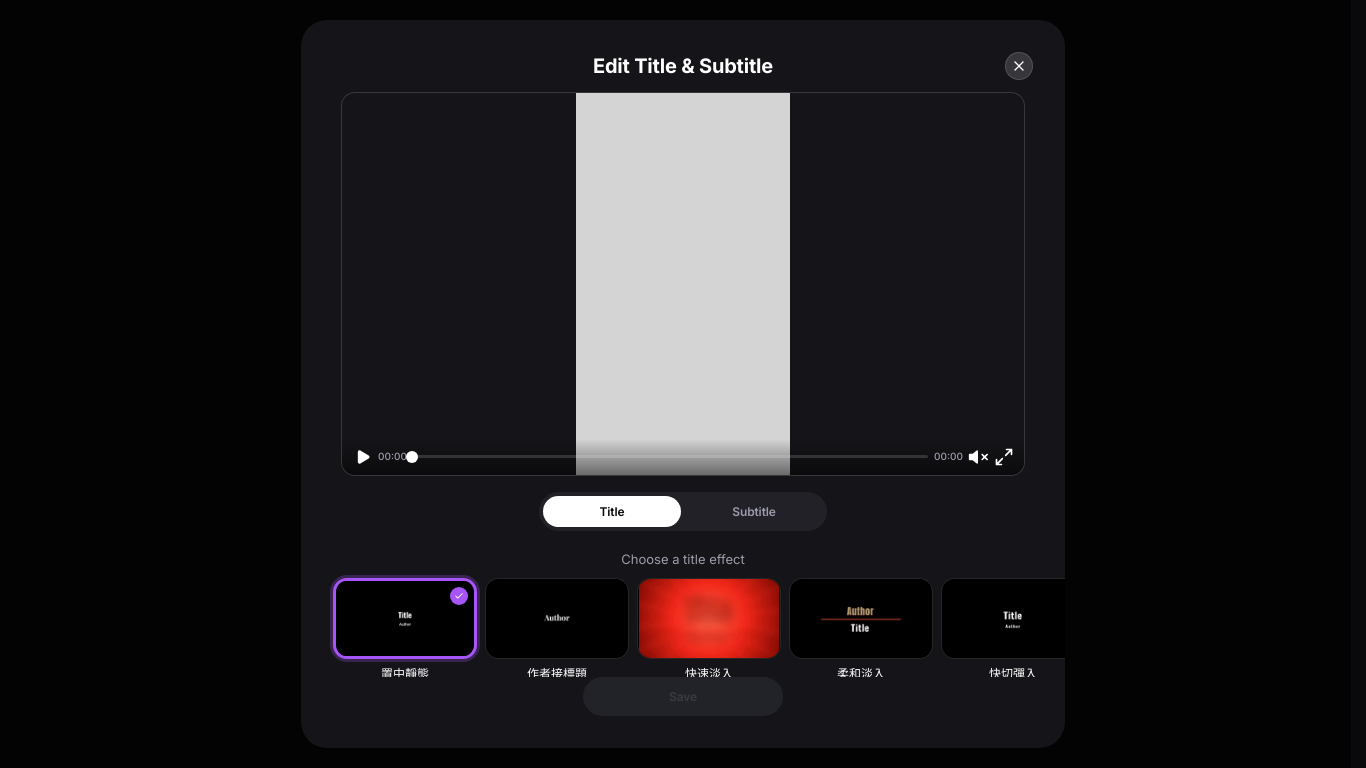
MV effects draft boundaries › keeps a usable but disabled subtitle switch operable without allowing selection
Click the tab "Subtitle" at coordinates (754, 512), box x1=685 y1=496 x2=823 y2=527
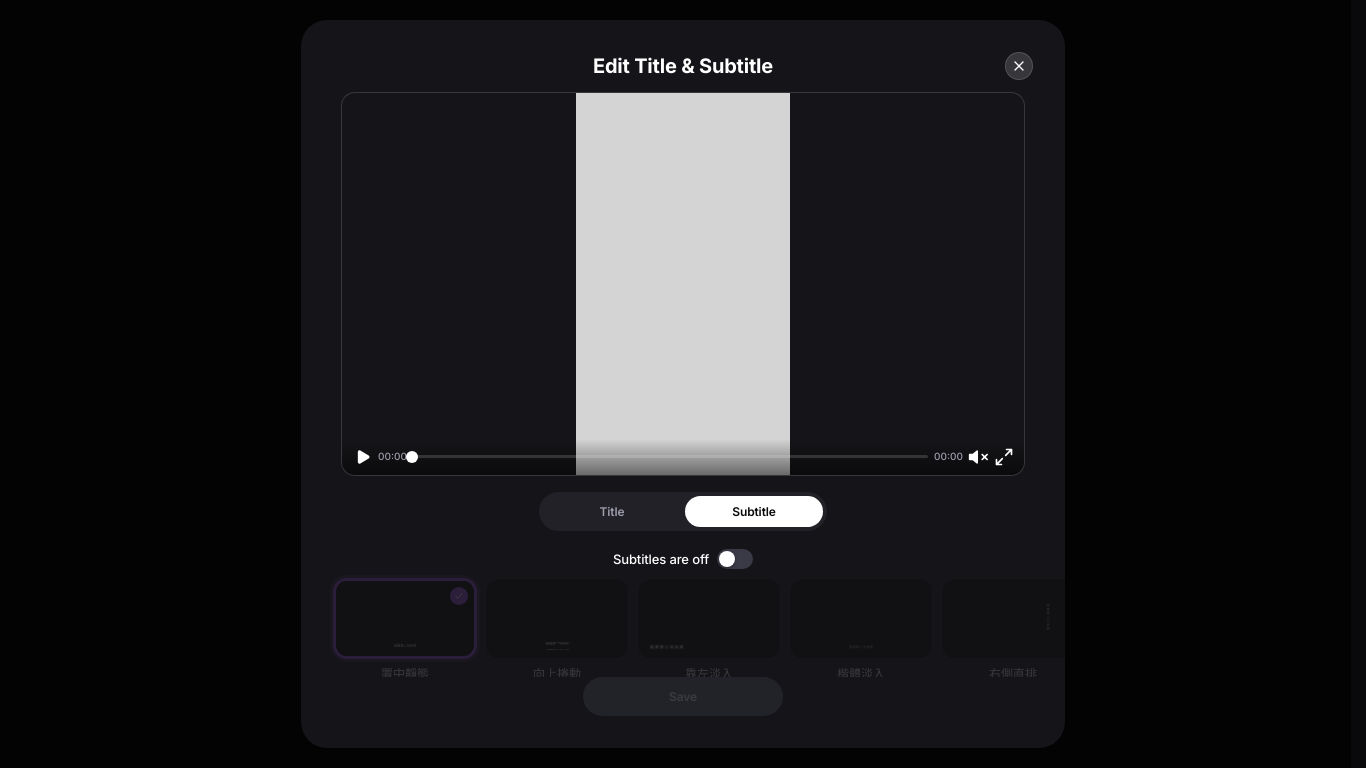
Check: the text "Subtitles are off" is shown, box x1=613 y1=550 x2=709 y2=568
Click the switch named "Turn subtitles on" at coordinates (735, 559), box x1=717 y1=549 x2=753 y2=569
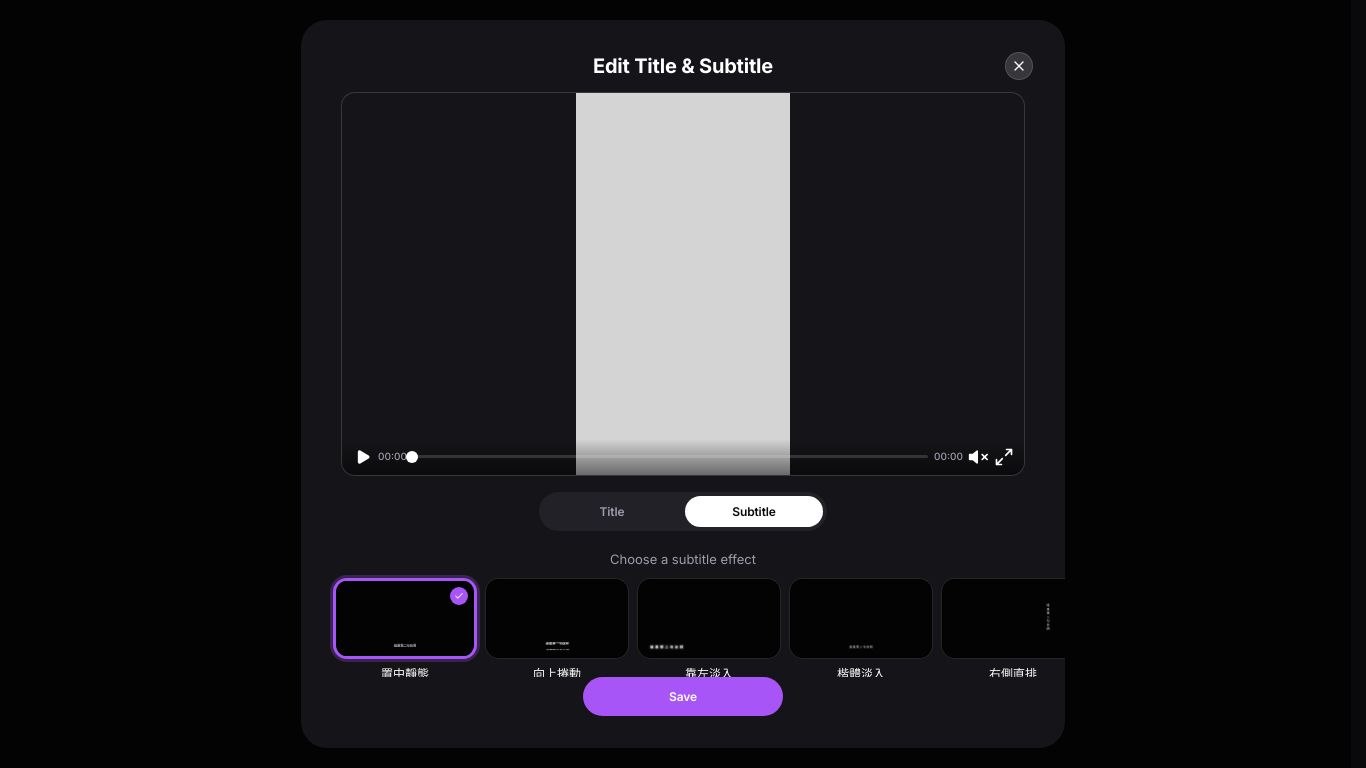
Check: the button "Save" is enabled, box x1=583 y1=677 x2=783 y2=716
